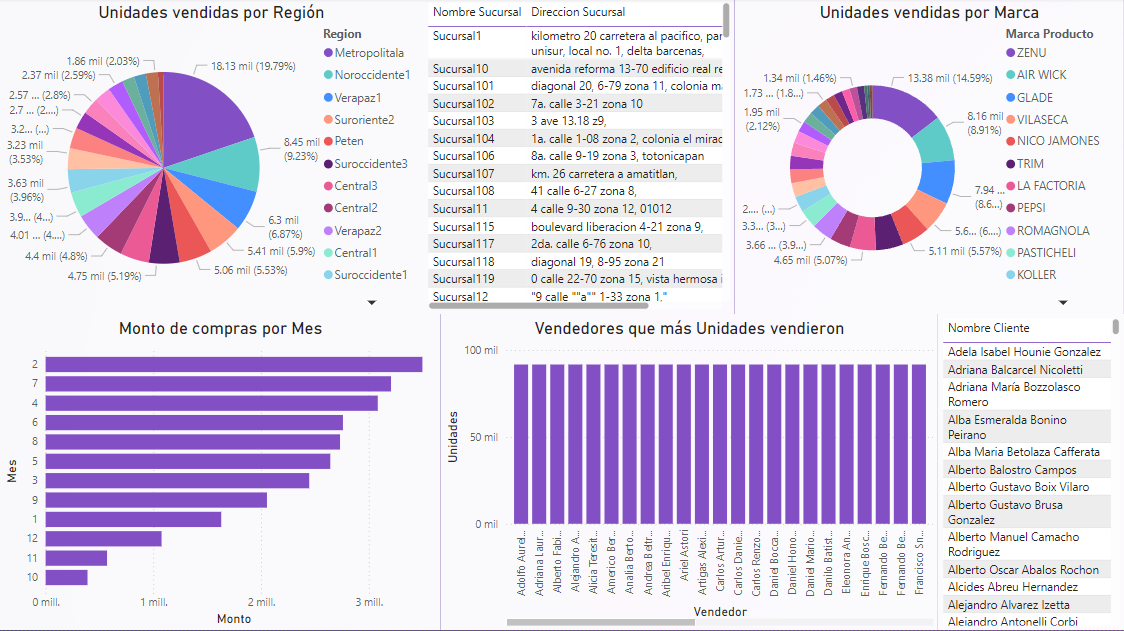

The page's visual inventory and layout, read from the dashboard file:
{"tool":"powerbi","page":{"name":"Ventas","canvas":[1280,720],"ordinal":1},"visuals":[{"type":"pieChart","title":"Unidades vendidas por Región","fields":{"Category":["Dim Sucursal.Region"],"Y":["Fact Compras.Unidades - Fact Compras"]},"box":[0,0,481.9,360],"z":1000},{"type":"clusteredColumnChart","title":"Vendedores que más Unidades vendieron","fields":{"Category":["Dim Vendedor.Nombre Vendedor"],"Y":["Fact Compras.Unidades - Fact Compras"]},"box":[502.4,360,566.2,360],"z":1001},{"type":"barChart","title":"Monto de compras por Mes","fields":{"Category":["Dim Fecha.Mes"],"Y":["Fact Compras.Subtotal - Fact Compras"]},"box":[0,360,502.4,360],"z":1002},{"type":"donutChart","title":"Unidades vendidas por Marca","fields":{"Category":["Dim Producto.Marca Producto"],"Y":["Fact Compras.Unidades - Fact Compras"]},"box":[837.3,0,443.2,360],"z":1003},{"type":"tableEx","fields":{"Values":["Dim Sucursal.Nombre Sucursal","Dim Sucursal.Direccion Sucursal"]},"box":[481.9,0,355.4,360],"z":1004},{"type":"tableEx","fields":{"Values":["Dim Cliente.Nombre Cliente"]},"box":[1068.6,360,211.9,360],"z":1005}]}

Visuals, with their boxes in screenshot pixels (x1, y1, x2, y2), scaled from the page's 1280x720 canvas onto the 1124x631 screenshot:
"Unidades vendidas por Región" pieChart: select_region(0, 0, 423, 316)
"Vendedores que más Unidades vendieron" clusteredColumnChart: select_region(441, 316, 938, 630)
"Monto de compras por Mes" barChart: select_region(0, 316, 441, 630)
"Unidades vendidas por Marca" donutChart: select_region(735, 0, 1123, 316)
tableEx - Dim Sucursal.Nombre Sucursal x Dim Sucursal.Direccion Sucursal: select_region(423, 0, 735, 316)
tableEx - Dim Cliente.Nombre Cliente: select_region(938, 316, 1123, 630)
